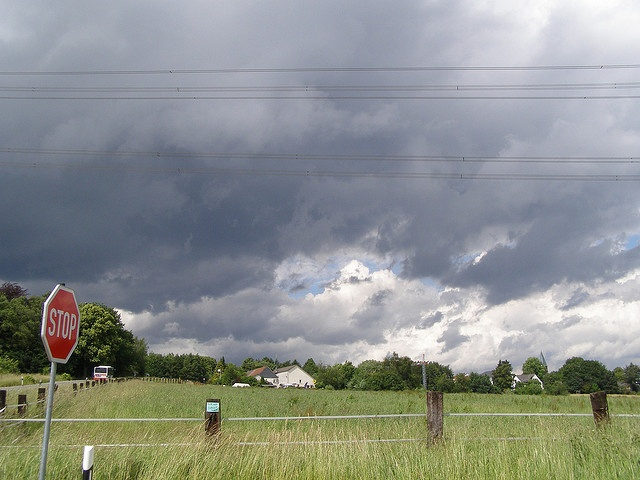stop sign: (42, 286, 124, 480)
